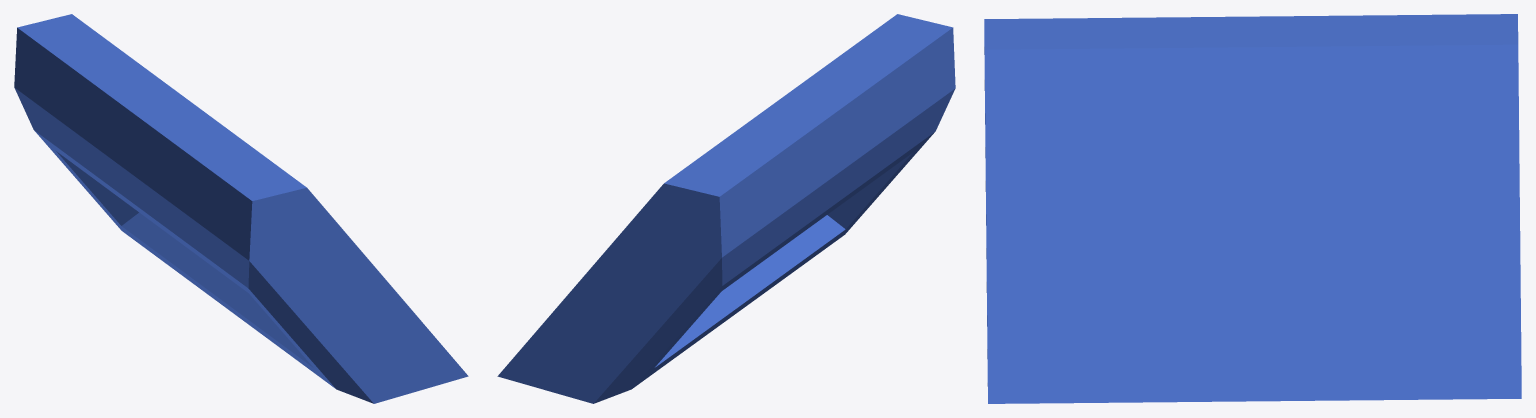
Rendered from Fighter_07_Detail_Blue.fbx.
3 views of the same model, side by side, from view 1: azimuth 30°, elevation 25°; view 2: azimuth 150°, elevation 25°; view 3: azimuth 270°, elevation 25° (orthographic). The views are drawn at different scales.
Parts seen in each view (by area): view 1: Fighter_07_Detail_Blue; view 2: Fighter_07_Detail_Blue; view 3: Fighter_07_Detail_Blue.
Part boxes in pixels (left/top/right/bottom): Fighter_07_Detail_Blue: left=14, top=14, right=468, bottom=403; Fighter_07_Detail_Blue: left=497, top=14, right=955, bottom=403; Fighter_07_Detail_Blue: left=984, top=14, right=1521, bottom=403.
Size of the model in its own units: 51.86 by 52.8 by 94.64.
Materials: 1 (1 with a texture image).
